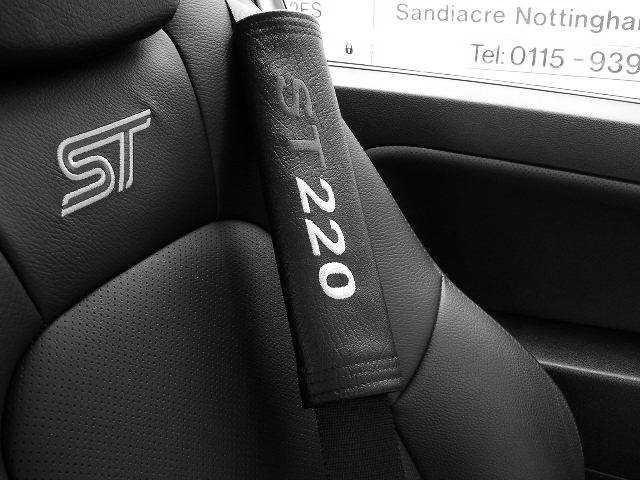Seatbelt: (222, 0, 412, 480)
